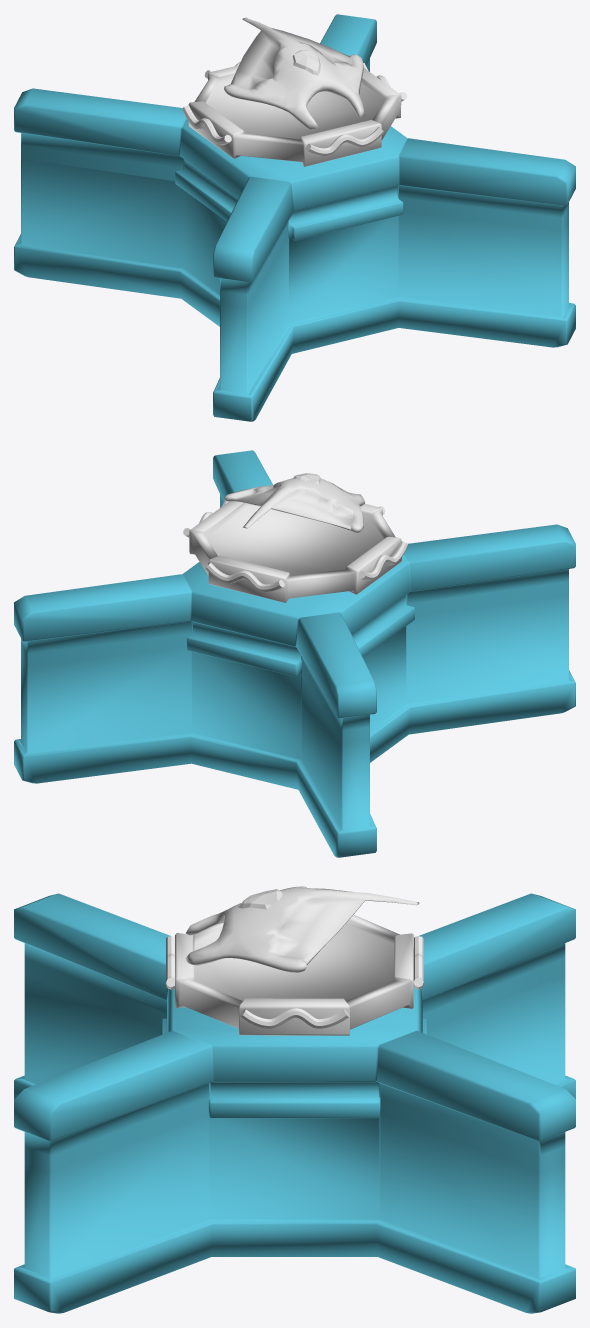
The model's file is all3_low 1.fbx.
3 renders of one model, top to bottom at view 1: azimuth 30°, elevation 25°; view 2: azimuth 150°, elevation 25°; view 3: azimuth 270°, elevation 25°, orthographic. The views are drawn at different scales.
Parts seen in each view (by area): view 1: Box1_low, Box2_low, ray_low, box3_low, jewal; view 2: Box1_low, Box2_low, ray_low, box3_low; view 3: Box1_low, Box2_low, ray_low, box3_low, jewal.
Part boxes in pixels (x1,y1,x2,y2): Box1_low: [14, 14, 575, 421]; Box2_low: [188, 65, 401, 166]; ray_low: [224, 17, 364, 129]; box3_low: [182, 62, 406, 155]; jewal: [292, 50, 320, 75]; Box1_low: [14, 450, 575, 857]; Box2_low: [189, 501, 401, 602]; ray_low: [224, 478, 364, 532]; box3_low: [183, 500, 407, 591]; Box1_low: [14, 893, 575, 1313]; Box2_low: [175, 914, 413, 1035]; ray_low: [185, 886, 419, 972]; box3_low: [166, 936, 423, 1028]; jewal: [238, 889, 282, 909].
Bounding box in the file's own units: 130 × 143 × 89.38.
